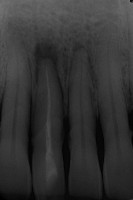Furcation Involvement: (33, 40, 59, 84), (71, 39, 85, 56)
